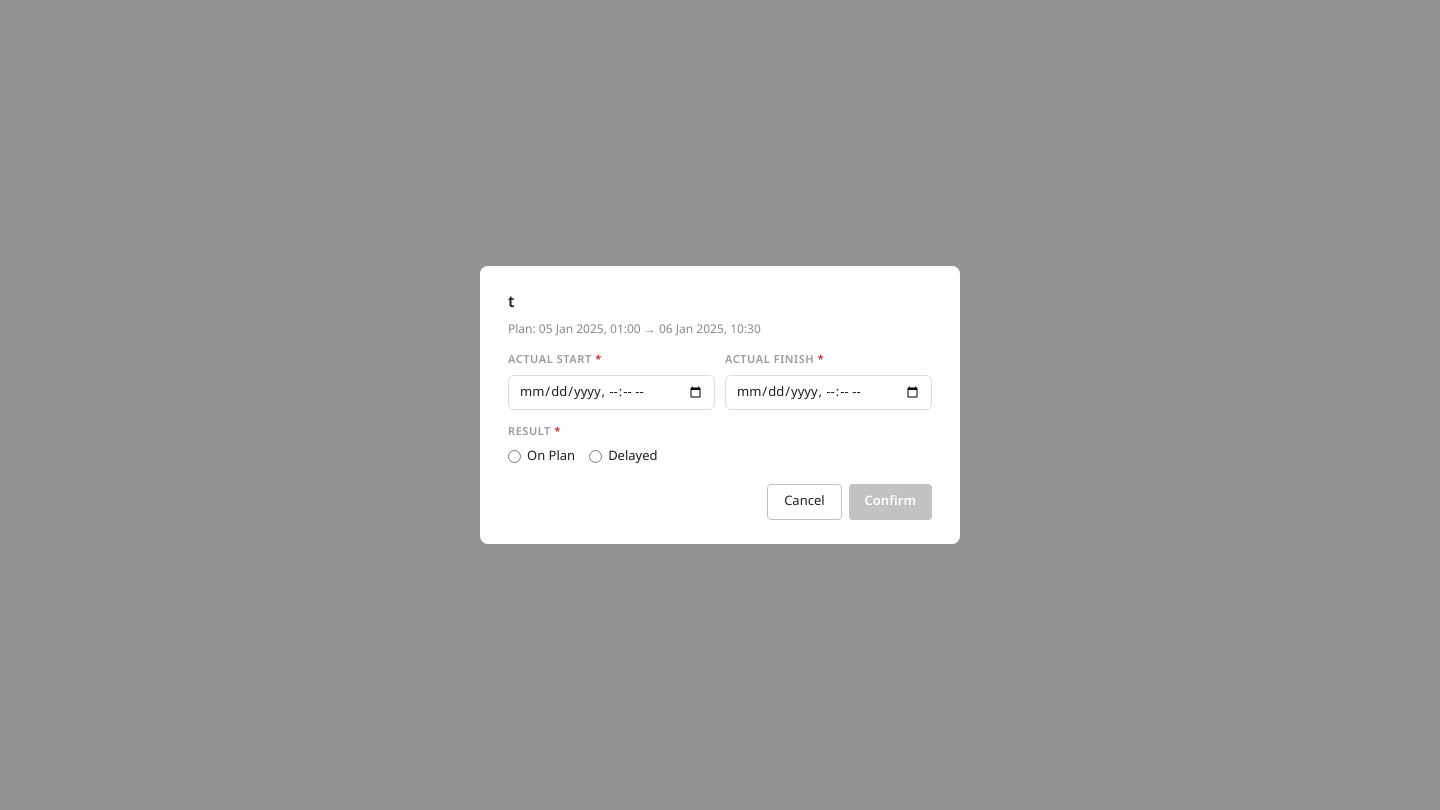
it: ActualDatesModal › choosing On Plan fills both dates from the plan; Delayed leaves them alone
What coordinates should you click on to do the following:
click the radio button labelled "Delayed"
I would click on:
 (596, 456)
Its box is [589, 450, 602, 463].
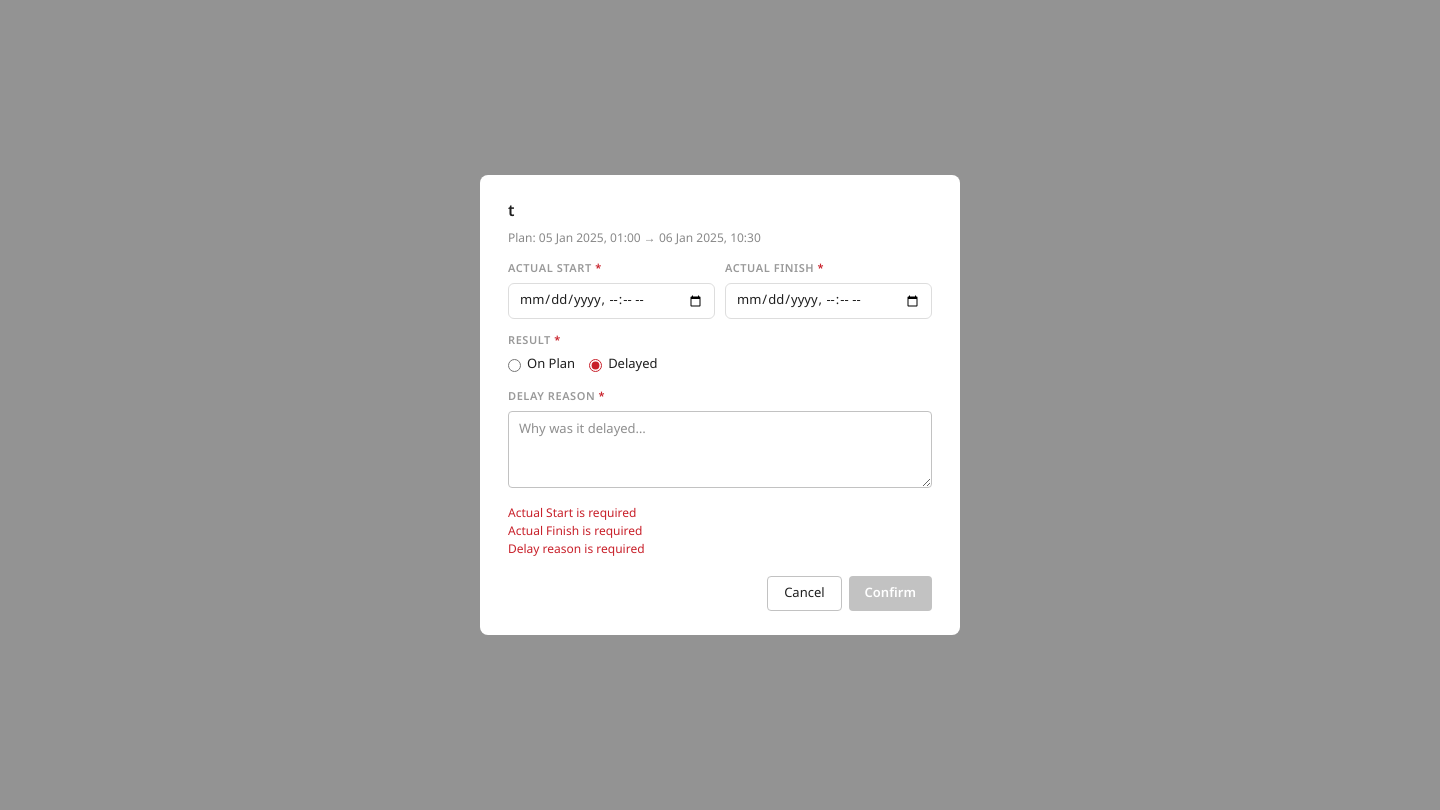
Expected: the field labelled "Actual Start *" is empty, [508, 283, 715, 319]
What coordinates should you click on to do the following:
click the radio button labelled "On Plan"
I would click on:
 (514, 365)
Its box is [508, 358, 521, 372].
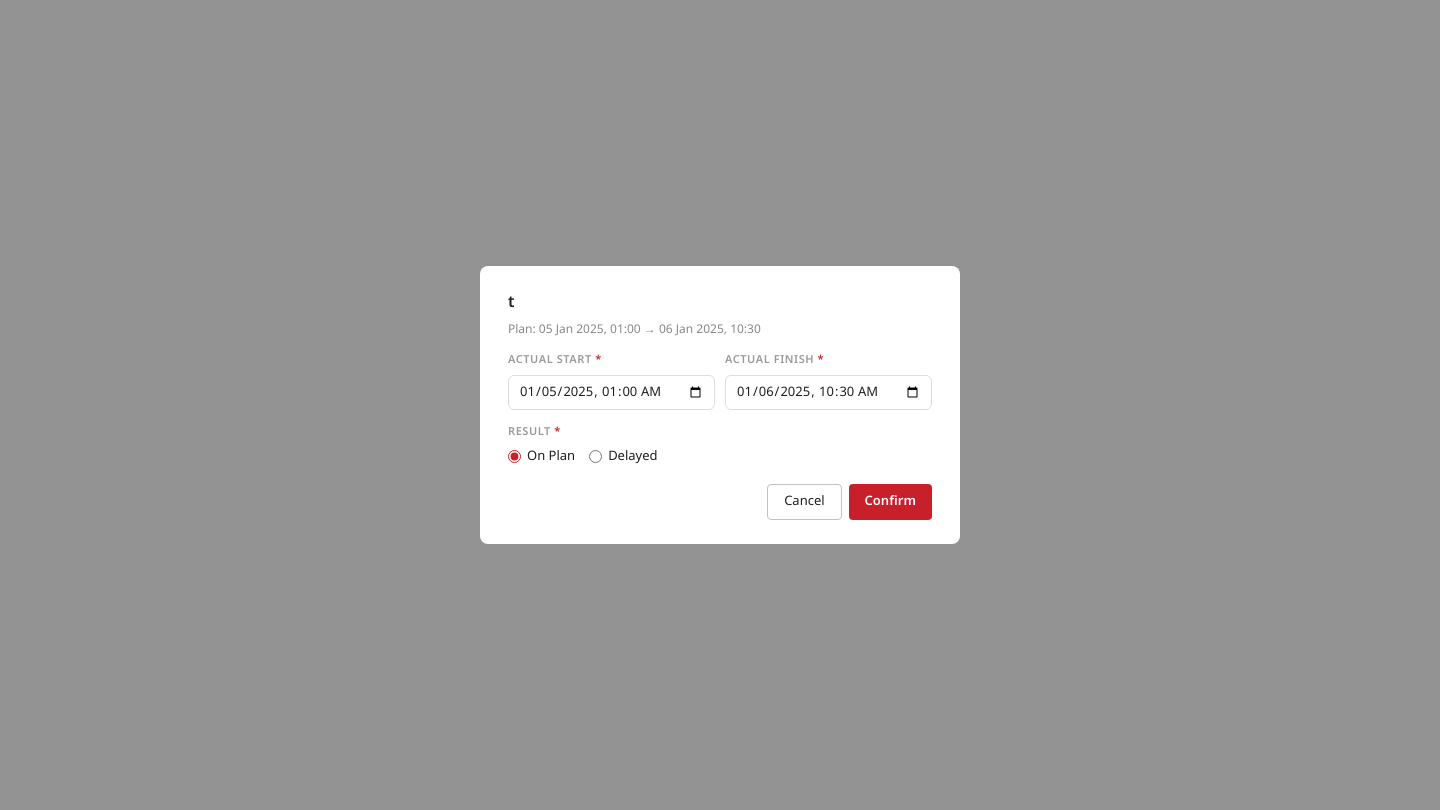
Expected: the field labelled "Actual Start *" holds "2025-01-05T01:00", [508, 375, 715, 410]
Expected: the field labelled "Actual Finish *" holds "2025-01-06T10:30", [725, 375, 932, 410]
Expected: the button "Confirm" is enabled, [849, 484, 932, 520]
